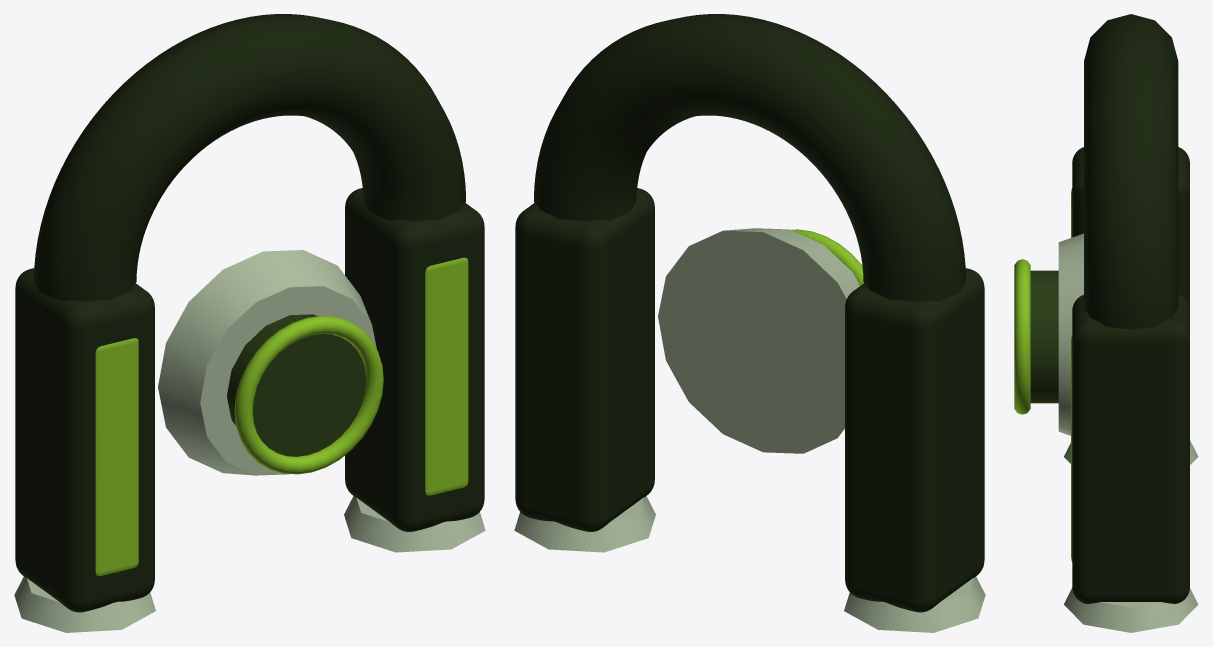
The model's file is company-consumer-gate.glb.
The picture shows the model from 3 angles, left to right: view 1: azimuth 30°, elevation 25°; view 2: azimuth 150°, elevation 25°; view 3: azimuth 270°, elevation 25°; orthographic projection. The views are drawn at different scales.
Size of the model in its own units: 11.5 by 12.99 by 4.37.
